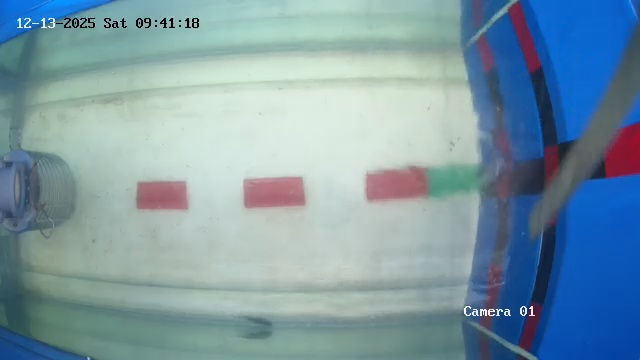fish: (237, 309, 277, 329)
